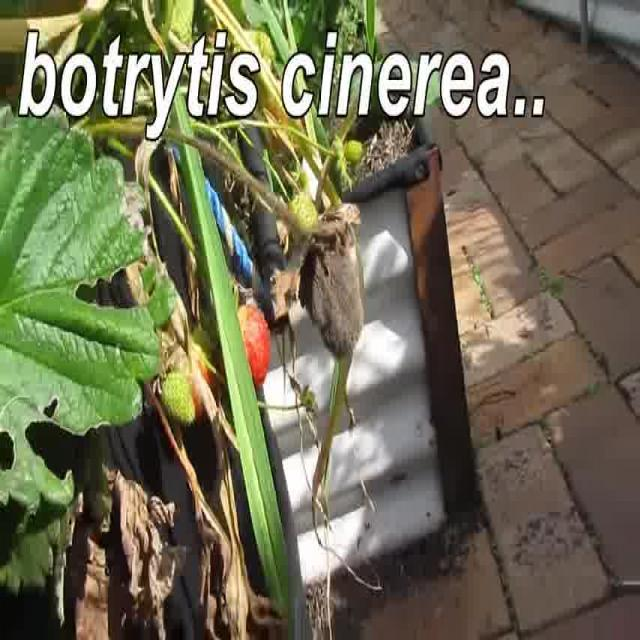Fruta sana: (174, 325, 217, 418), (231, 300, 272, 388), (157, 370, 196, 428)
Moho gris: (296, 228, 366, 348)
